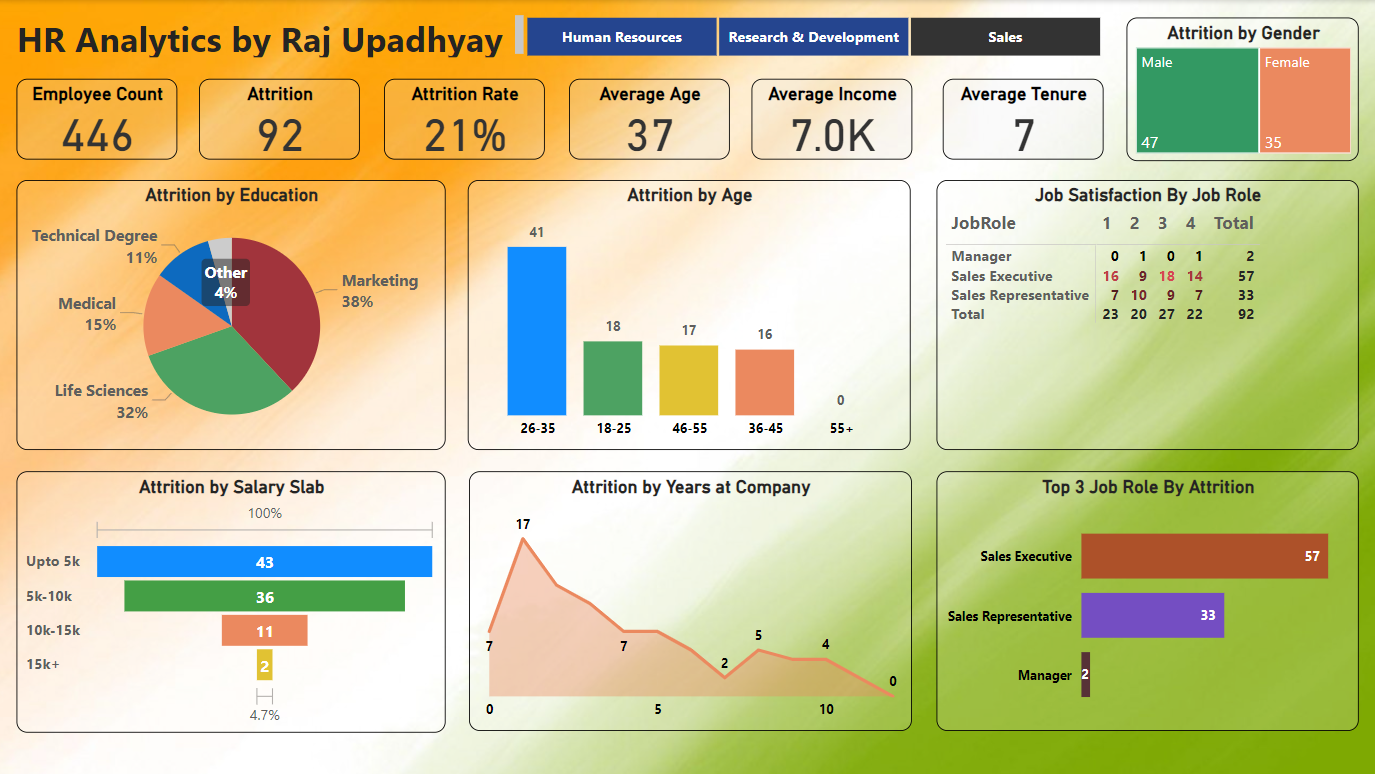

The page's visual inventory and layout, read from the dashboard file:
{"tool":"powerbi","page":{"name":"Page 1","canvas":[1280,720],"ordinal":0},"visuals":[{"type":"card","title":"Employee Count","fields":{"Values":["CountNonNull(HR_Analytics.EmpID)"]},"box":[15.7,72.7,149.3,75.6],"z":0},{"type":"card","title":"Attrition","fields":{"Values":["Sum(HR_Analytics.AttritionCount)"]},"box":[185.8,72.7,149.3,75.6],"z":1000},{"type":"card","title":"Attrition Rate","fields":{"Values":["HR_Analytics.AttritionRate"]},"box":[357.8,72.7,149.3,75.6],"z":2000},{"type":"card","title":"Average Age","fields":{"Values":["Avg(HR_Analytics.Age)"]},"box":[529.8,72.7,149.3,75.6],"z":3000},{"type":"card","title":"Average Income","fields":{"Values":["Avg(HR_Analytics.MonthlyIncome)"]},"box":[699.8,72.7,149.3,75.6],"z":4000},{"type":"card","title":"Average Tenure","fields":{"Values":["Avg(HR_Analytics.YearsAtCompany)"]},"box":[877.5,72.7,149.3,75.6],"z":5000},{"type":"pieChart","title":"Attrition by Education","fields":{"Category":["HR_Analytics.EducationField"],"Y":["Sum(HR_Analytics.AttritionCount)"]},"box":[15.9,166.9,398.9,251.1],"z":6000},{"type":"columnChart","title":"Attrition by Age","fields":{"Category":["HR_Analytics.AgeGroup"],"Y":["Sum(HR_Analytics.AttritionCount)"]},"box":[435.5,166.9,411.7,251.1],"z":7000},{"type":"pivotTable","title":"Job Satisfaction By Job Role","fields":{"Rows":["HR_Analytics.JobRole"],"Columns":["HR_Analytics.JobSatisfaction"],"Values":["Sum(HR_Analytics.AttritionCount)"]},"box":[872.6,166.9,392.6,251.1],"z":8000},{"type":"funnel","title":"Attrition by Salary Slab","fields":{"Category":["HR_Analytics.SalarySlab"],"Y":["Sum(HR_Analytics.AttritionCount)"]},"box":[15.9,438.7,398.9,243.2],"z":10000},{"type":"barChart","title":"Top 3 Job Role By Attrition","fields":{"Y":["Sum(HR_Analytics.AttritionCount)"],"Category":["HR_Analytics.JobRole"]},"box":[872.6,438.7,392.6,241.6],"z":11000},{"type":"areaChart","title":"Attrition by Years at Company","fields":{"Category":["HR_Analytics.YearsAtCompany"],"Y":["Sum(HR_Analytics.AttritionCount)"]},"box":[437.1,438.7,411.7,241.6],"z":12000},{"type":"treemap","title":"Attrition by Gender","fields":{"Group":["HR_Analytics.Gender"],"Values":["Sum(HR_Analytics.AttritionCount)"]},"box":[1049,15.9,216.2,133.5],"z":13000},{"type":"slicer","fields":{"Values":["HR_Analytics.Department"]},"box":[465.7,9.5,583.3,49.3],"z":14000},{"type":"textbox","box":[0,9.3,493,48.8],"z":15000}]}

Visuals, with their boxes in screenshot pixels (x1, y1, x2, y2), scaled from the page's 1280x720 canvas onto the 1375x774 screenshot:
"Employee Count" card: select_region(17, 78, 177, 159)
"Attrition" card: select_region(200, 78, 360, 159)
"Attrition Rate" card: select_region(384, 78, 545, 159)
"Average Age" card: select_region(569, 78, 730, 159)
"Average Income" card: select_region(752, 78, 912, 159)
"Average Tenure" card: select_region(943, 78, 1103, 159)
"Attrition by Education" pieChart: select_region(17, 179, 446, 449)
"Attrition by Age" columnChart: select_region(468, 179, 910, 449)
"Job Satisfaction By Job Role" pivotTable: select_region(937, 179, 1359, 449)
"Attrition by Salary Slab" funnel: select_region(17, 472, 446, 733)
"Top 3 Job Role By Attrition" barChart: select_region(937, 472, 1359, 731)
"Attrition by Years at Company" areaChart: select_region(470, 472, 912, 731)
"Attrition by Gender" treemap: select_region(1127, 17, 1359, 161)
slicer - HR_Analytics.Department: select_region(500, 10, 1127, 63)
textbox: select_region(0, 10, 530, 62)
